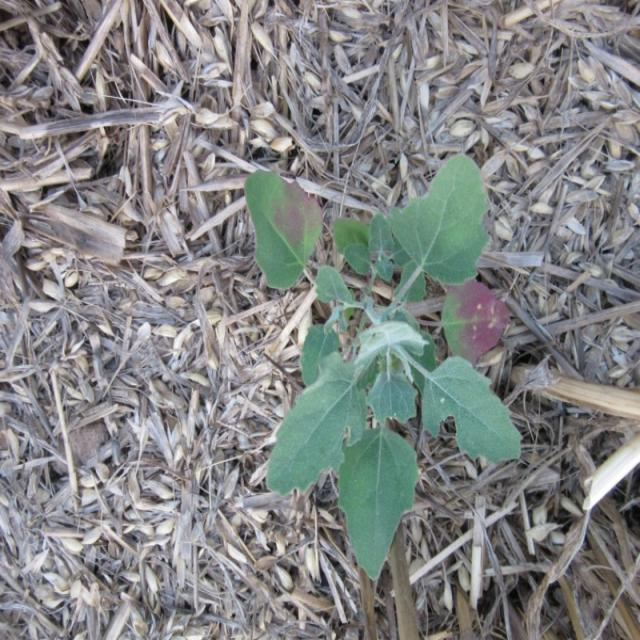ca: (244, 157, 523, 580)
